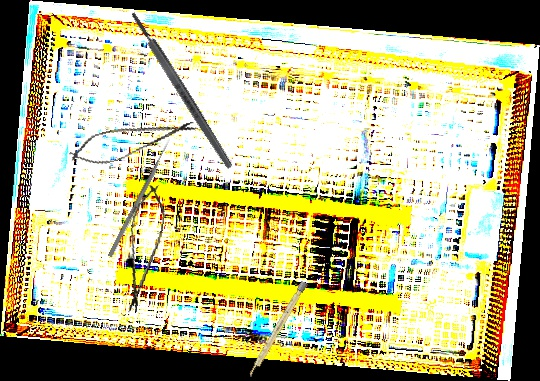Micro Scissor: (64, 108, 201, 173), (118, 179, 170, 318)
Pusher: (107, 137, 173, 258)
Scalpel Handle: (127, 9, 236, 172), (247, 280, 308, 379)
